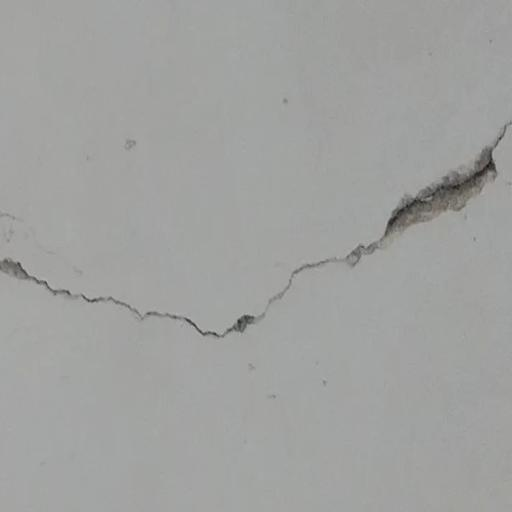major_crack: (5, 104, 512, 354)
